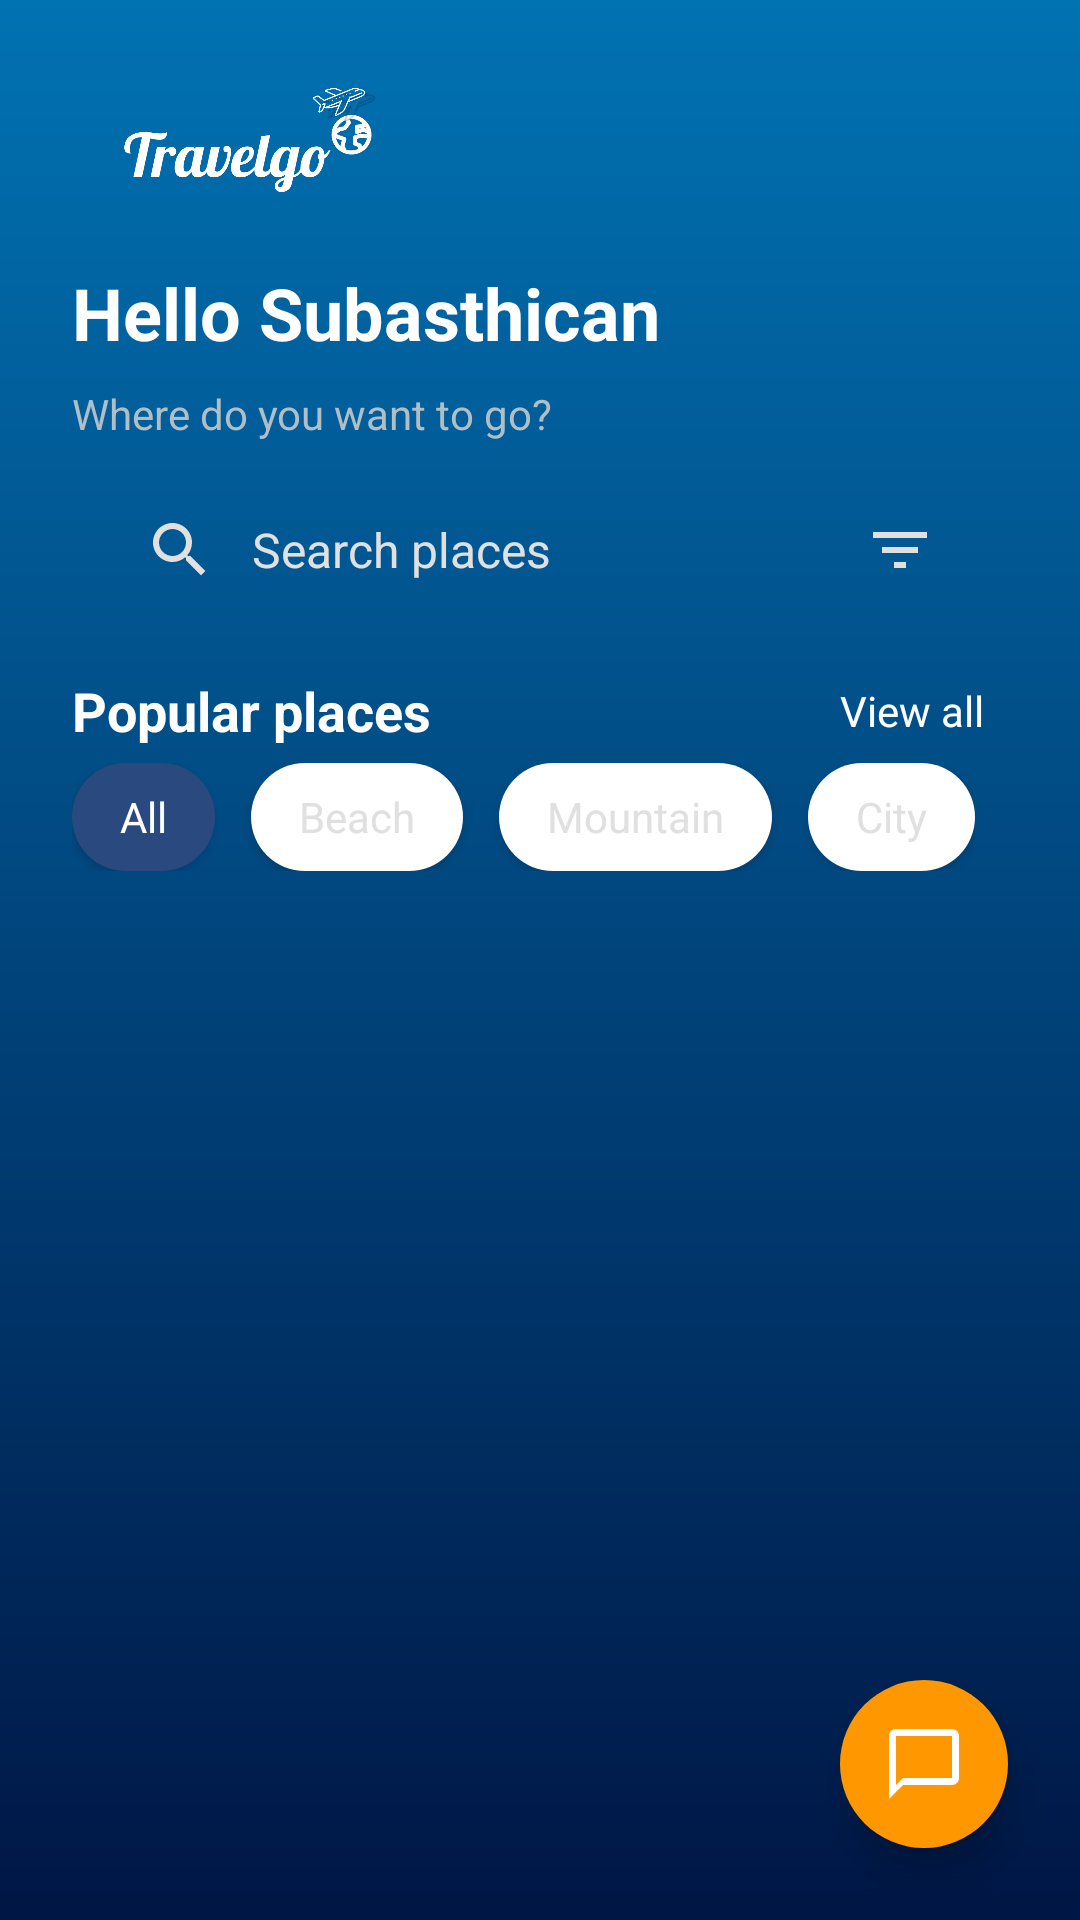

Point at icon controls on the screen. Image size 1080 × 1920, points as [x,y].
chat: [924,1764]
filter: [900,550]
